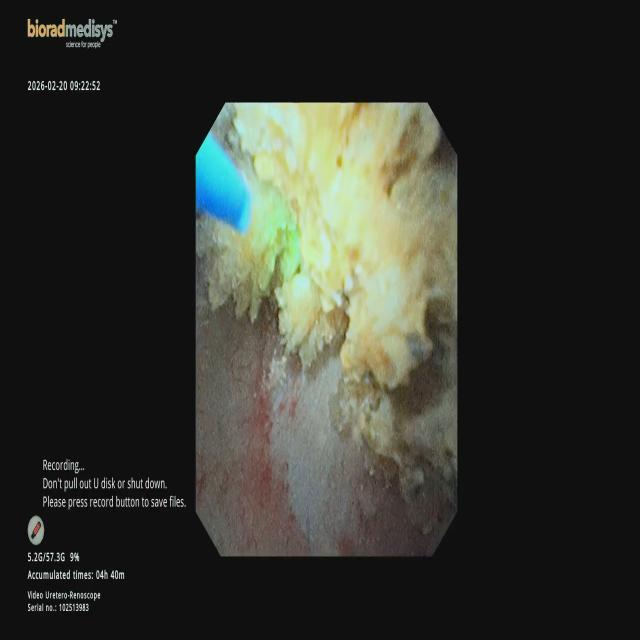laser_dot: (264, 202, 300, 281)
stone-new: (197, 103, 456, 390), (331, 382, 457, 501)
